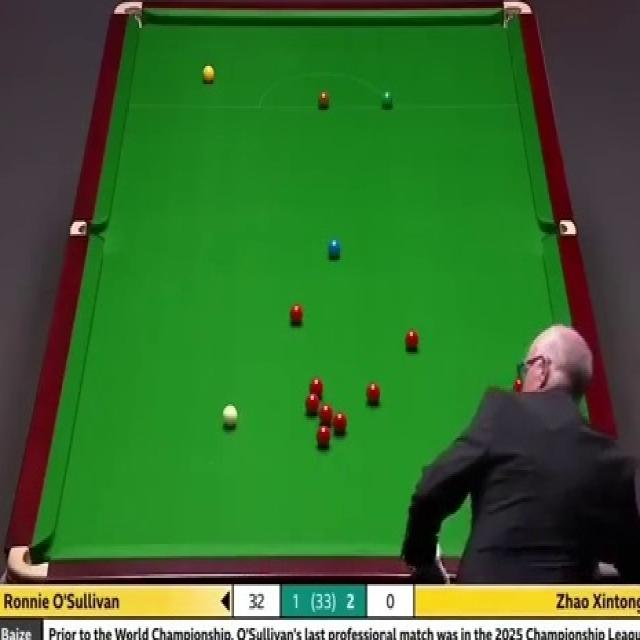blue-ball: (328, 239, 341, 261)
brown-ball: (318, 93, 330, 110)
green-ball: (382, 90, 393, 110)
red-ball: (288, 300, 305, 326), (316, 425, 332, 449), (405, 327, 420, 352), (367, 382, 381, 407), (318, 405, 334, 426), (304, 393, 320, 413), (334, 412, 347, 436), (308, 379, 324, 397), (513, 378, 524, 392)
white-ball: (220, 402, 238, 431)
yellow-ball: (202, 66, 216, 86)
